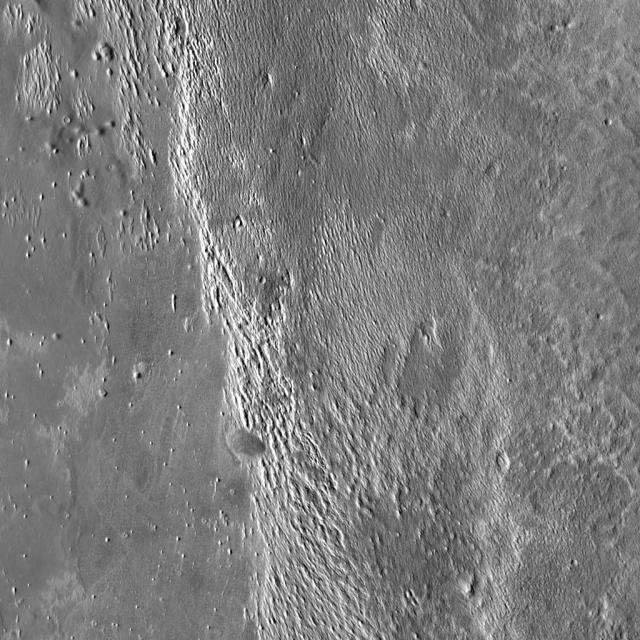crater: (606, 117, 616, 125), (61, 111, 67, 118)
